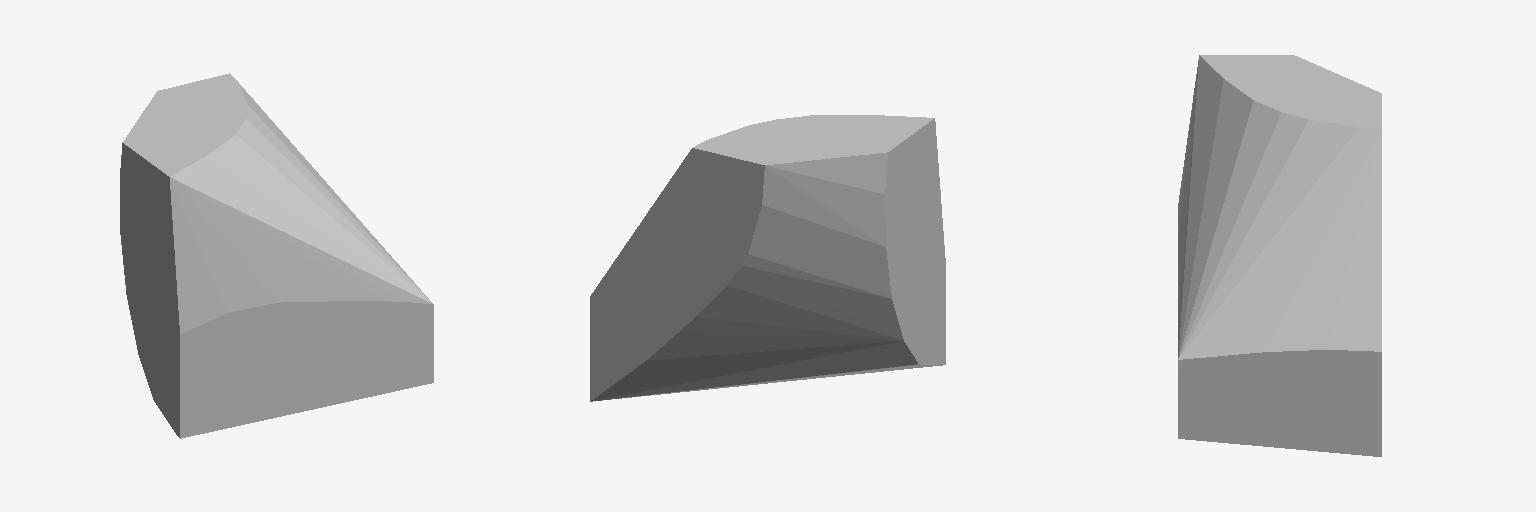
File: phantom-elastrat_collision_423.obj
3 renders of one model, left to right at view 1: azimuth 30°, elevation 25°; view 2: azimuth 150°, elevation 25°; view 3: azimuth 270°, elevation 25°, orthographic.
Bounding box in the file's own units: 0.0057 × 0.006 × 0.004.